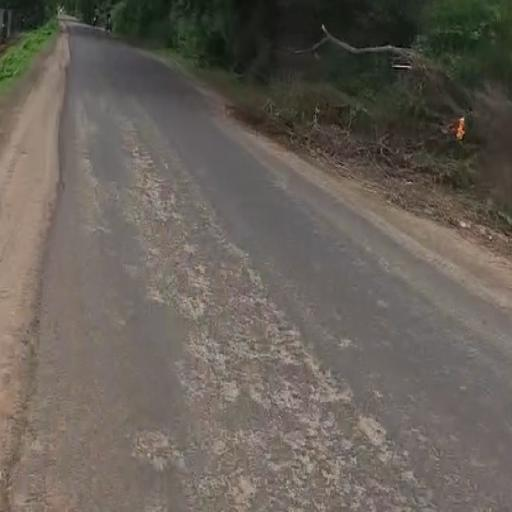edge_damage: (4, 60, 87, 499)
ravelling: (93, 75, 414, 501)
